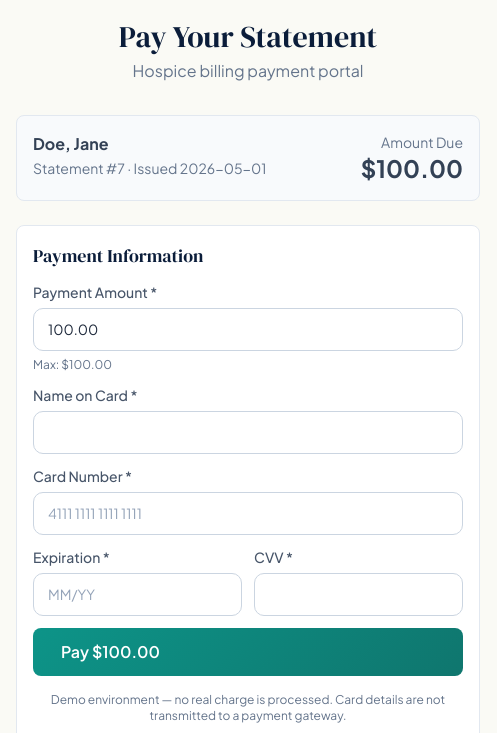
PortalPaymentPage › shows backend error when payment fails
The width and height of the screenshot is (497, 733).
Expected: the heading "Pay Your Statement" is shown, [119,16,377,57]
In the field labelled "Name on Card *": [248, 432] box [33,411,463,454], type "Jane"
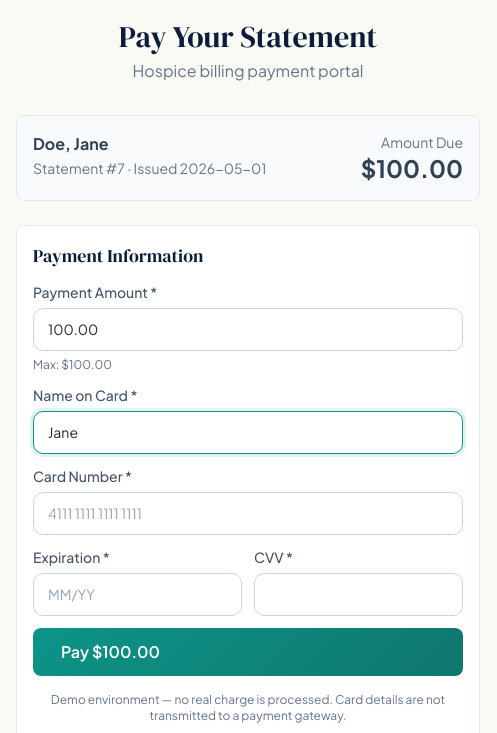
In the field labelled "Card Number *": [248, 514] box [33,492,463,535], type "4111"
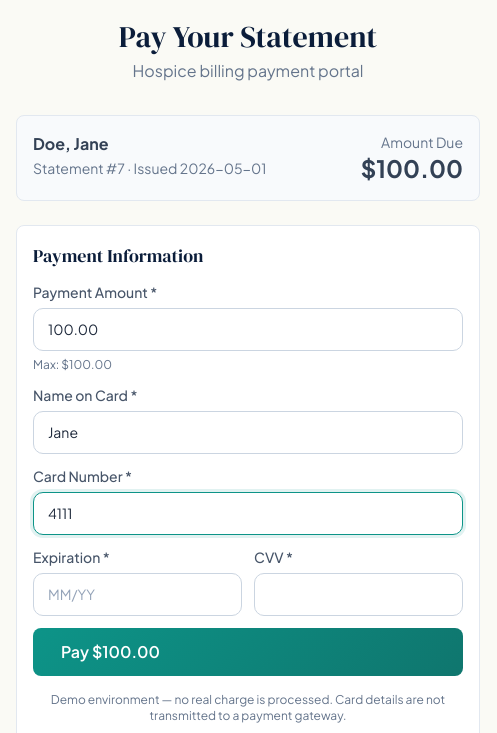
In the field labelled "Expiration *": [138, 594] box [33,573,242,616], type "12/29"
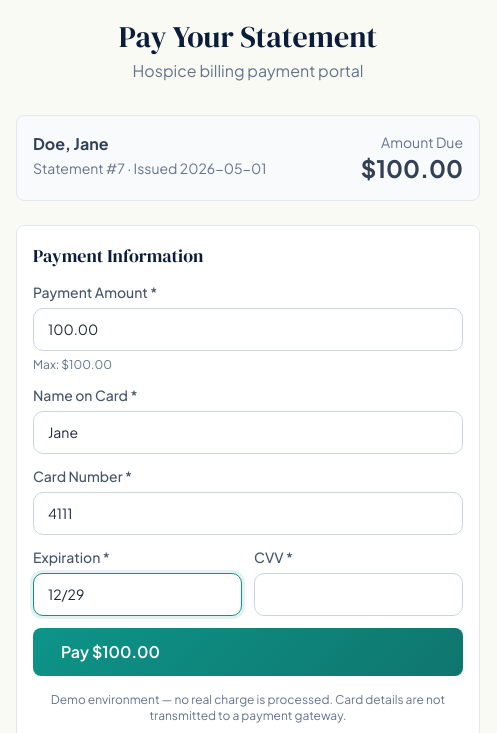
In the field labelled "CVV *": [358, 594] box [254,573,463,616], type "123"
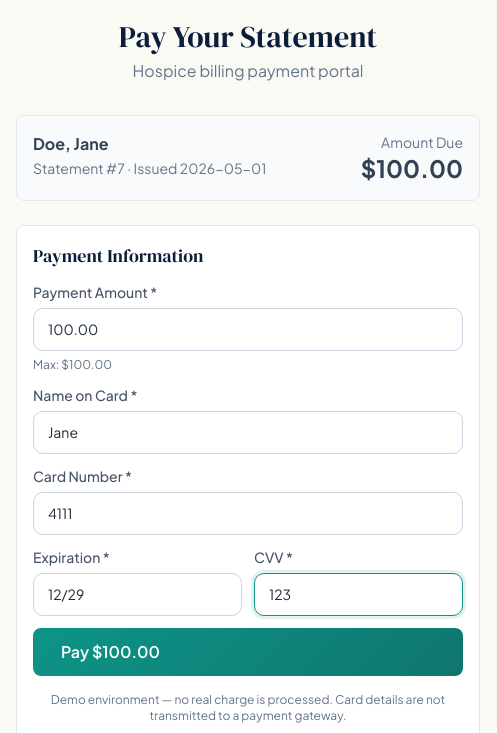
Click the button "Pay $100.00": [110, 652] box [33,628,463,676]
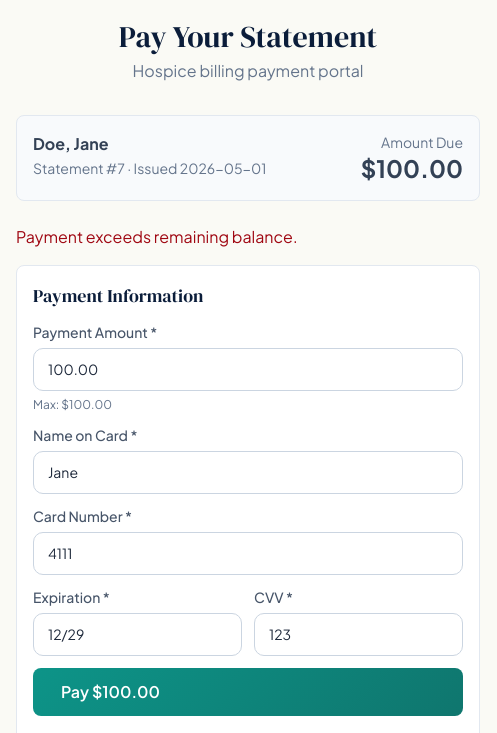
Expected: the text "Payment exceeds remaining balance." is shown, [16,226,298,247]
